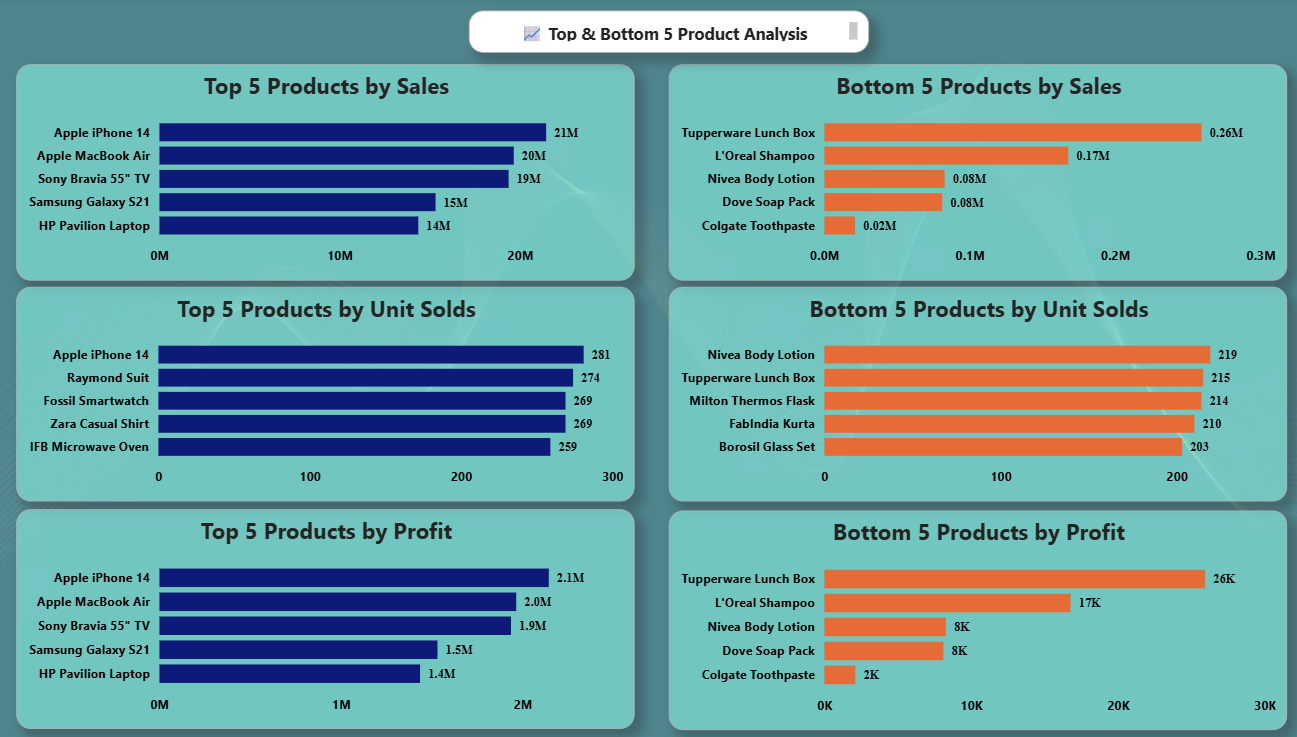

The page's visual inventory and layout, read from the dashboard file:
{"tool":"powerbi","page":{"name":"Top & Bottom 5 Product Analysis","canvas":[1280,720],"ordinal":1},"visuals":[{"type":"barChart","title":"Top 5 Products by Sales","fields":{"Category":["Dim Product.Product Name"],"Y":["Sum(Fact Table.Net Sales  )"]},"box":[20.5,63.9,597.2,208.7],"z":0},{"type":"barChart","title":"Bottom 5 Products by Sales","fields":{"Category":["Dim Product.Product Name"],"Y":["Sum(Fact Table.Net Sales  )"]},"box":[650.3,63.9,597.2,208.7],"z":1000},{"type":"barChart","title":"Top 5 Products by Unit Solds","fields":{"Category":["Dim Product.Product Name"],"Y":["Sum(Fact Table.Units Sold)"]},"box":[20.5,278.7,597.2,207.5],"z":2000},{"type":"barChart","title":"Bottom 5 Products by Unit Solds","fields":{"Category":["Dim Product.Product Name"],"Y":["Sum(Fact Table.Units Sold)"]},"box":[650.3,278.7,597.2,207.5],"z":3000},{"type":"barChart","title":"Top 5 Products by Profit","fields":{"Category":["Dim Product.Product Name"],"Y":["Sum(Fact Table.Profit )"]},"box":[20.5,493.4,597.2,212.3],"z":4000},{"type":"barChart","title":"Bottom 5 Products by Profit","fields":{"Category":["Dim Product.Product Name"],"Y":["Sum(Fact Table.Profit )"]},"box":[650.3,494.6,597.2,212.3],"z":5000},{"type":"textbox","box":[457.2,12.1,386.1,41],"z":6000}]}

Visuals, with their boxes in screenshot pixels (x1, y1, x2, y2), scaled from the page's 1280x720 canvas onto the 1297x737 screenshot:
"Top 5 Products by Sales" barChart: (left=21, top=65, right=626, bottom=279)
"Bottom 5 Products by Sales" barChart: (left=659, top=65, right=1264, bottom=279)
"Top 5 Products by Unit Solds" barChart: (left=21, top=285, right=626, bottom=498)
"Bottom 5 Products by Unit Solds" barChart: (left=659, top=285, right=1264, bottom=498)
"Top 5 Products by Profit" barChart: (left=21, top=505, right=626, bottom=722)
"Bottom 5 Products by Profit" barChart: (left=659, top=506, right=1264, bottom=724)
textbox: (left=463, top=12, right=855, bottom=54)
